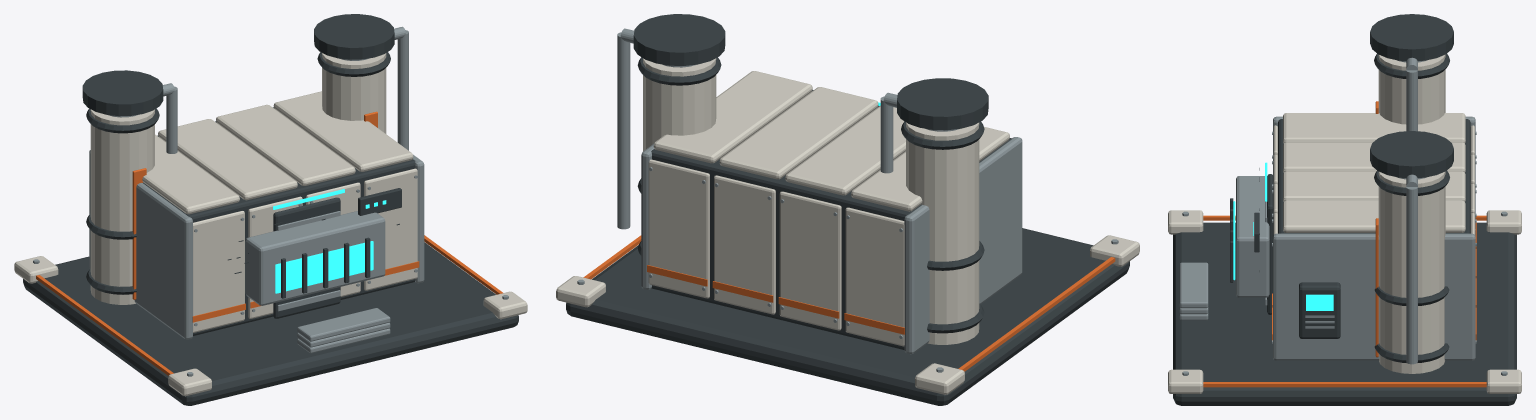
File: SM_UraniumProcessor_Body.fbx
The picture shows the model from 3 angles, left to right: view 1: azimuth 30°, elevation 25°; view 2: azimuth 150°, elevation 25°; view 3: azimuth 270°, elevation 25°; orthographic projection. The views are drawn at different scales.
Visible parts, largest first — view 1: SM_UraniumProcessor_Body; view 2: SM_UraniumProcessor_Body; view 3: SM_UraniumProcessor_Body.
Boxes of the visible parts, left/top/right/bottom form: SM_UraniumProcessor_Body: left=14, top=14, right=527, bottom=405; SM_UraniumProcessor_Body: left=556, top=14, right=1139, bottom=405; SM_UraniumProcessor_Body: left=1168, top=14, right=1521, bottom=405.
Bounding box in the file's own units: 492 × 422 × 308.
